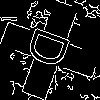D: (25, 25, 81, 74)
